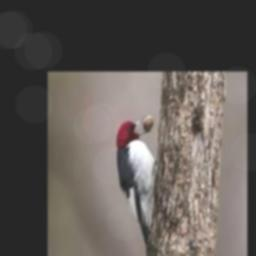Woodpecker: (116, 114, 157, 256)
